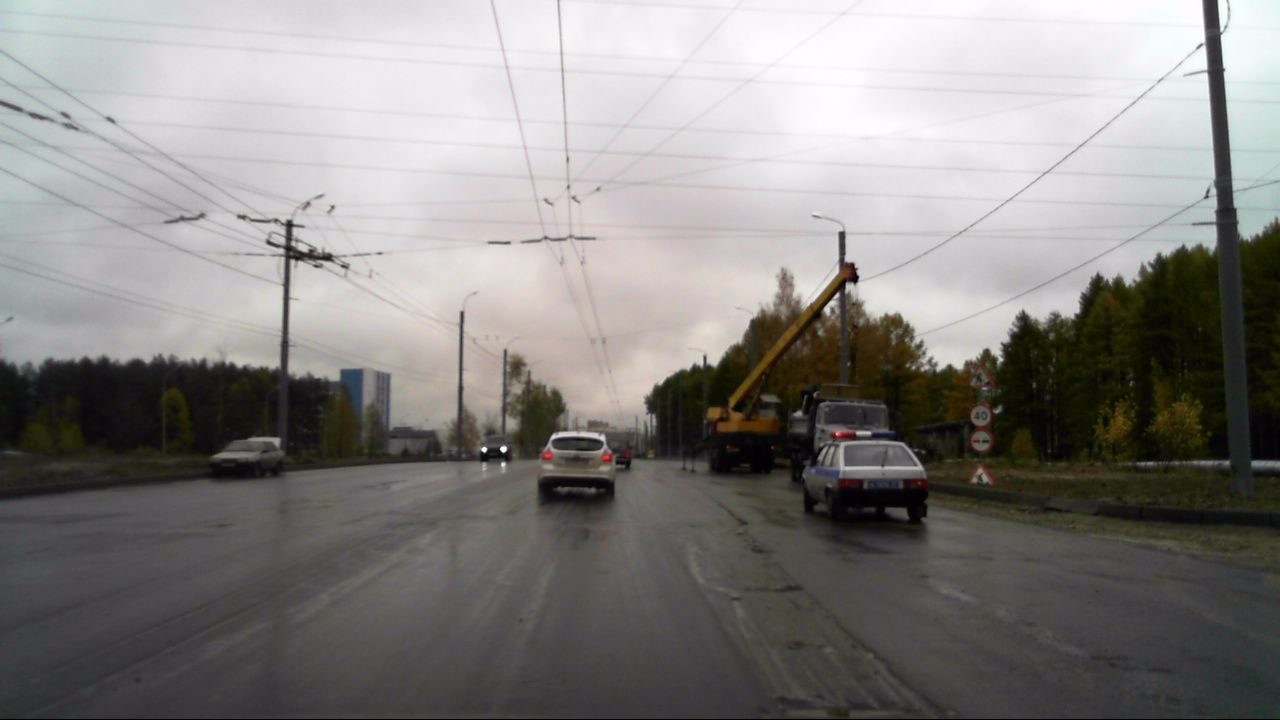speed_warning_40: (968, 405, 992, 426)
